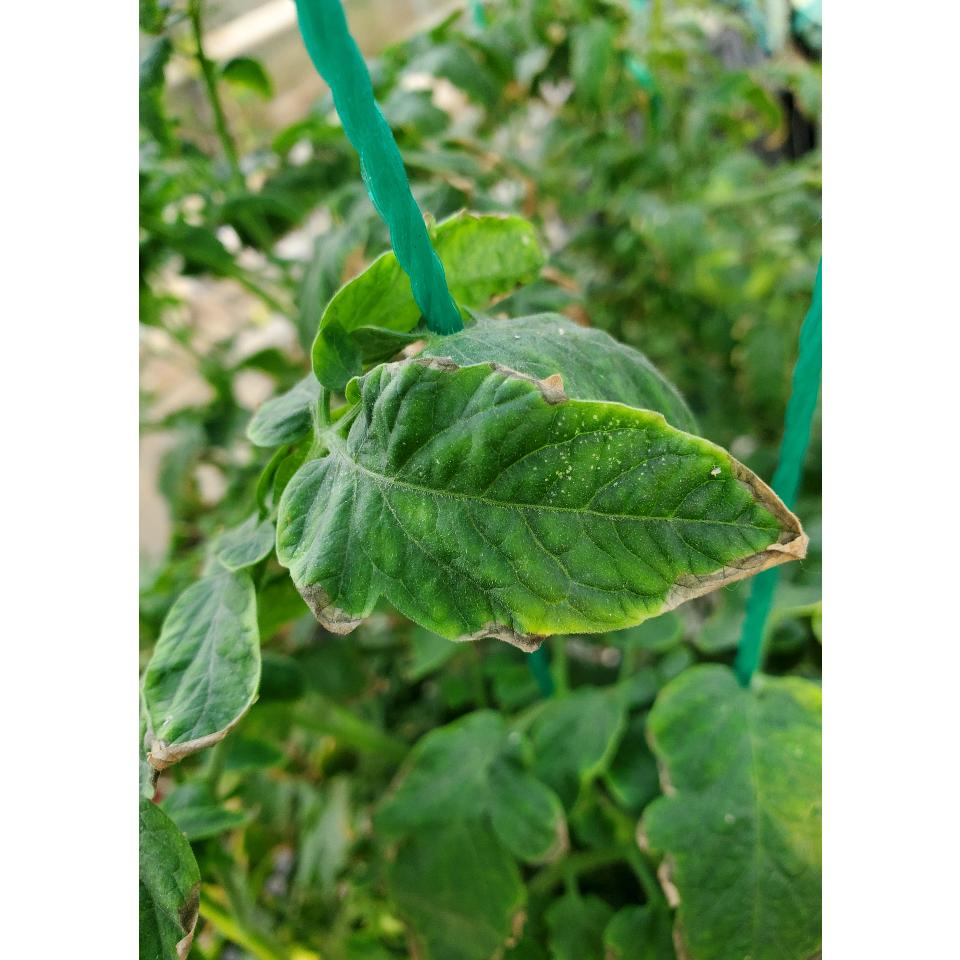tomato_bacterial_blight: (270, 344, 822, 648)
